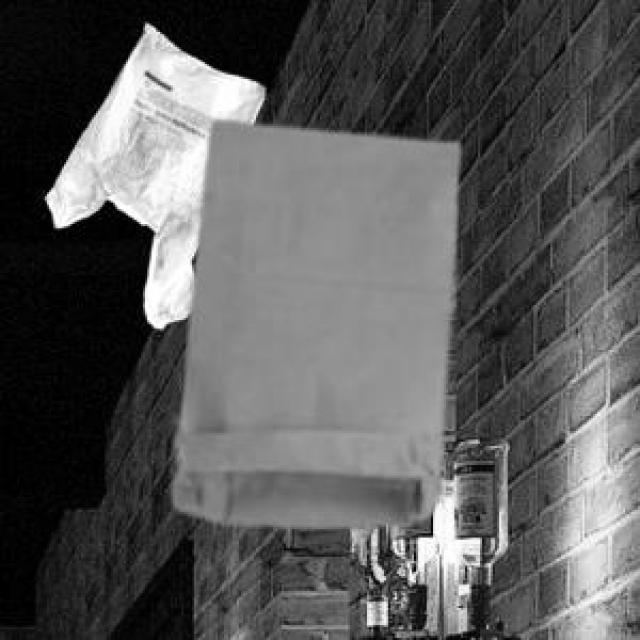paper: (171, 117, 454, 523)
